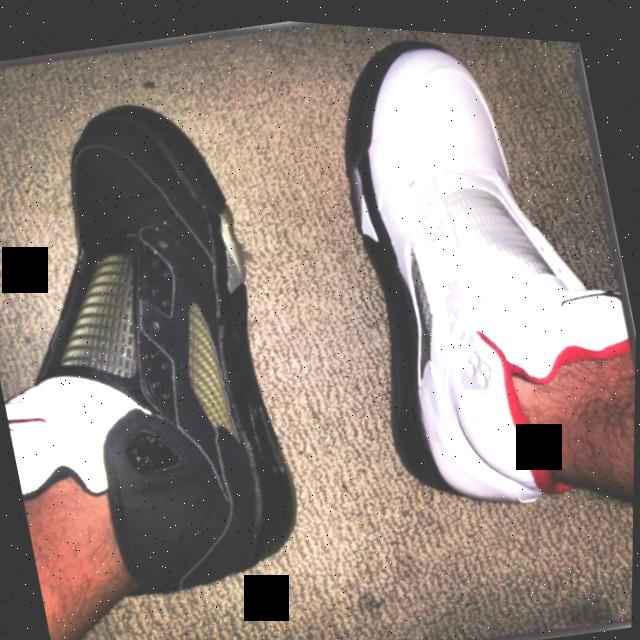shoes: (0, 57, 345, 640), (303, 18, 640, 549)
